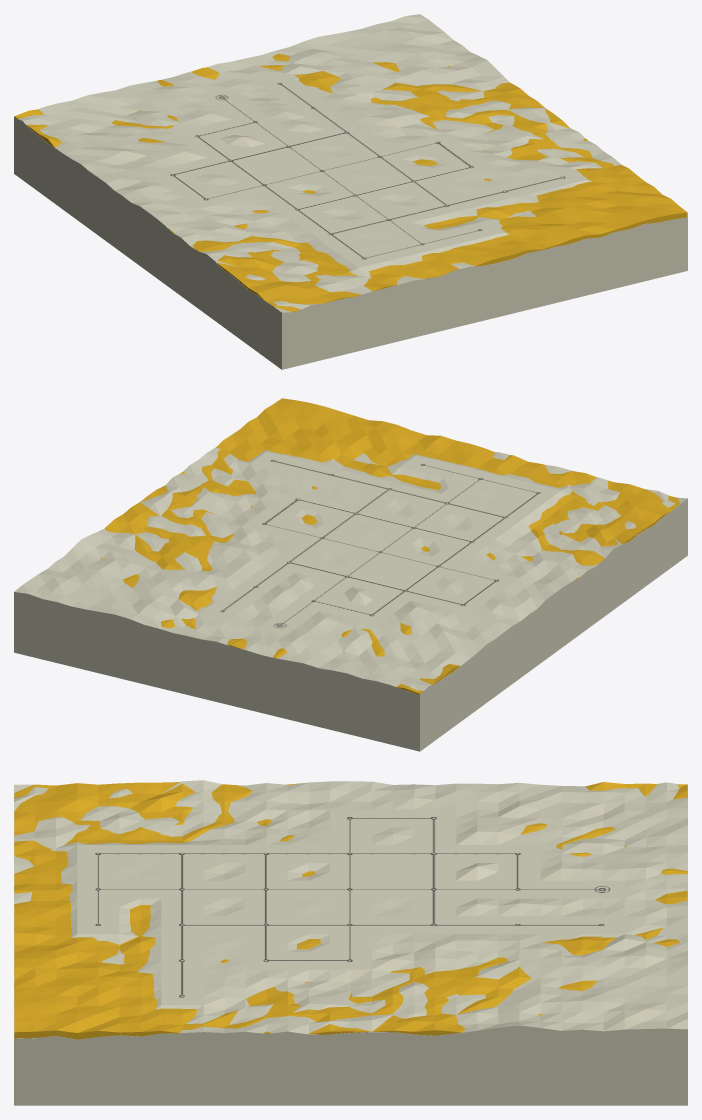
The model's file is Nivell3.FBX.
3 renders of one model, top to bottom at view 1: azimuth 30°, elevation 25°; view 2: azimuth 150°, elevation 25°; view 3: azimuth 270°, elevation 25°, orthographic. The views are drawn at different scales.
Parts seen in each view (by area): view 1: Plane001; view 2: Plane001; view 3: Plane001.
Part boxes in pixels (x1=…): Plane001: x1=14, y1=14, x2=687, y2=369; Plane001: x1=14, y1=398, x2=687, y2=751; Plane001: x1=14, y1=780, x2=687, y2=1105.
Size of the model in its own units: 35.03 by 5.26 by 40.04.
Materials: 1 (1 with a texture image).
